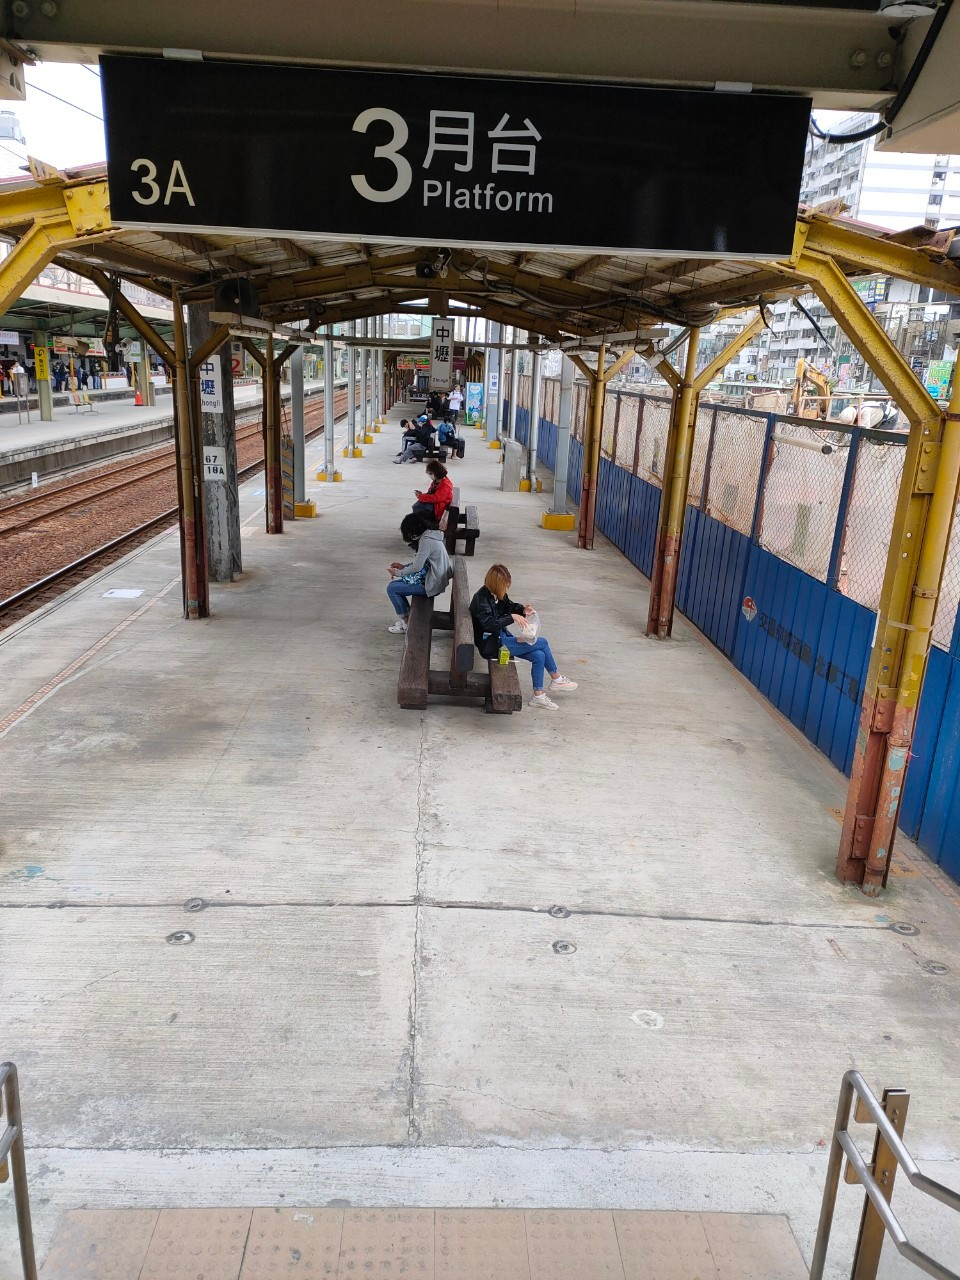people: (487, 559, 578, 716), (374, 506, 458, 629), (419, 453, 464, 543)
